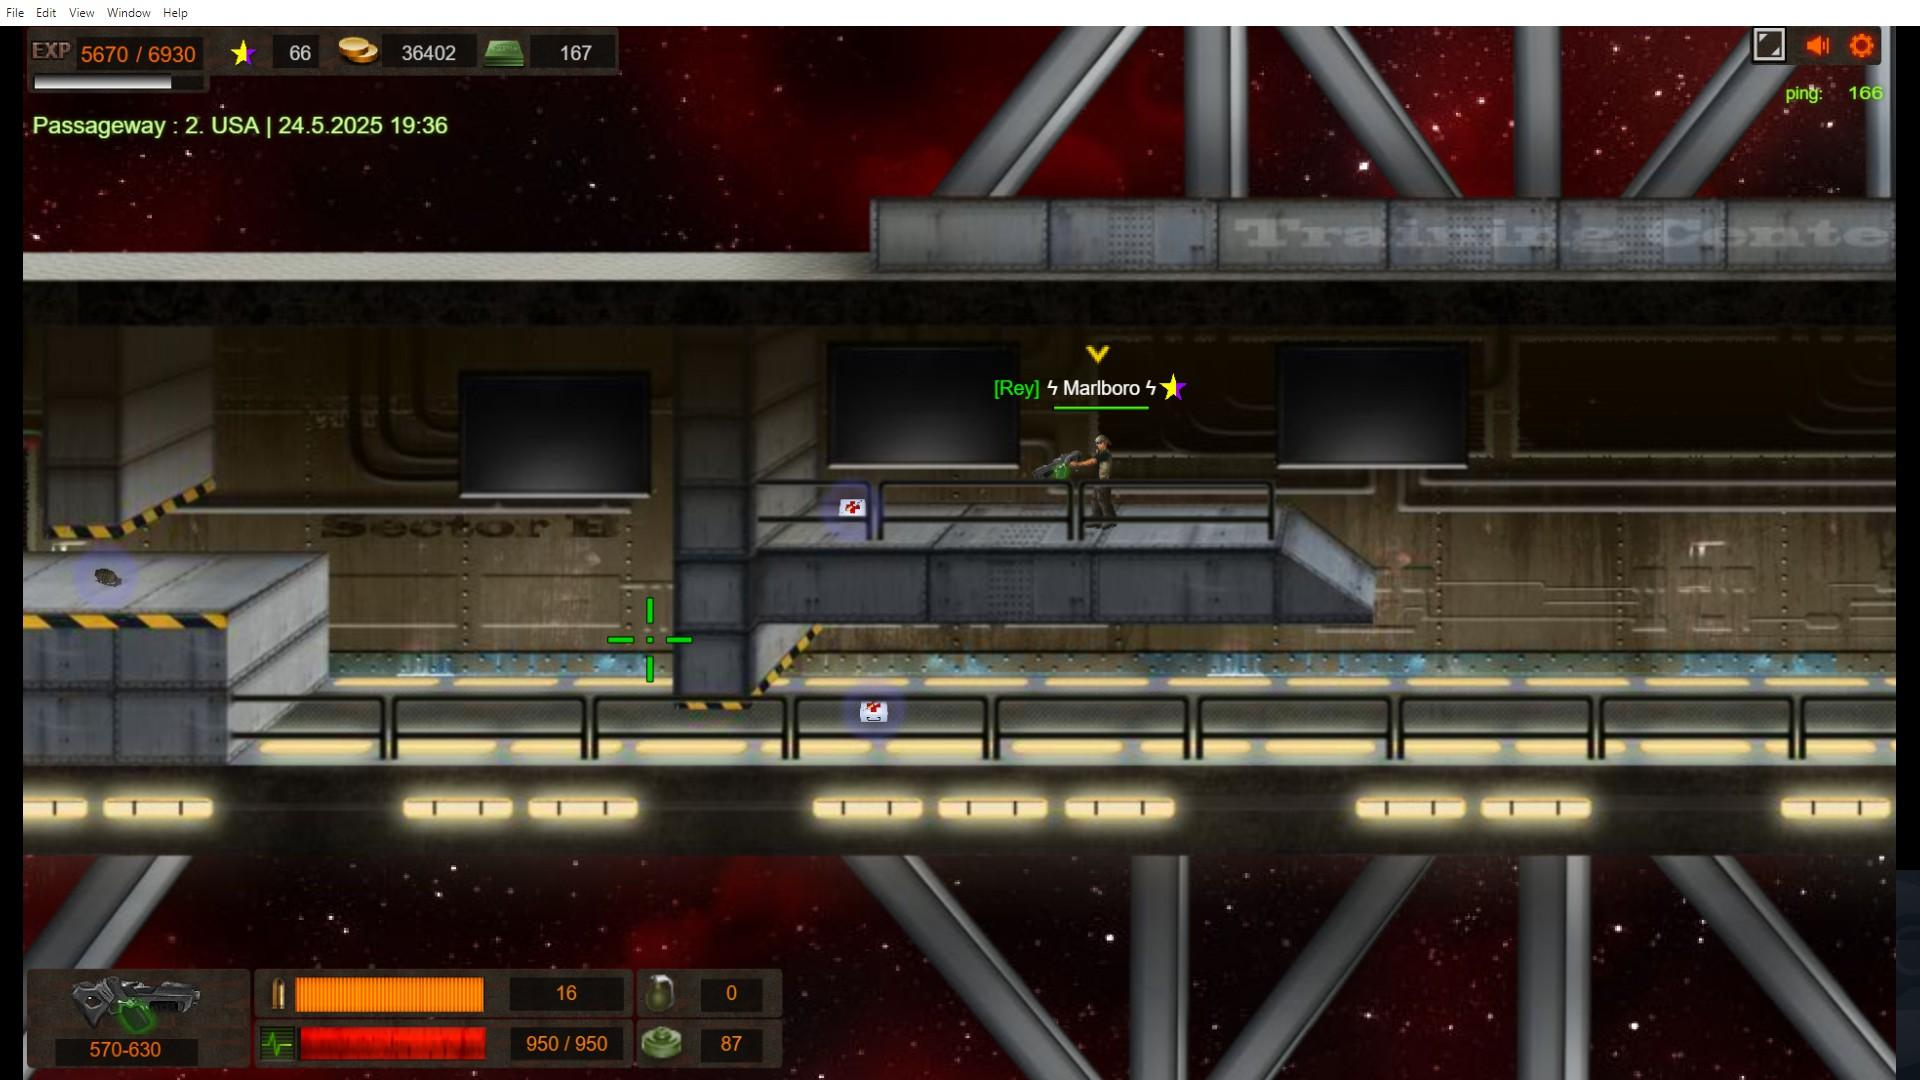enemy: (1091, 434, 1118, 529)
